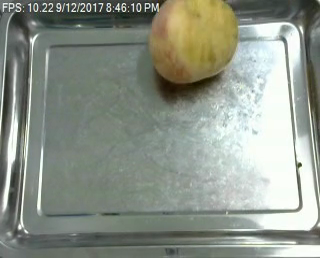Peach: (148, 0, 239, 83)
